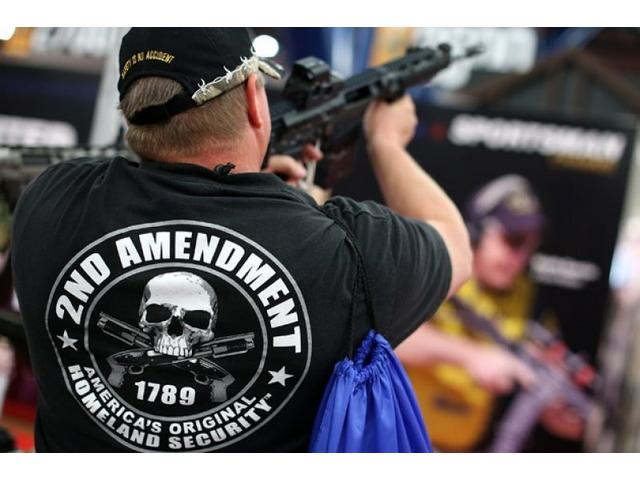rifle: (256, 37, 486, 181), (447, 299, 621, 454)
